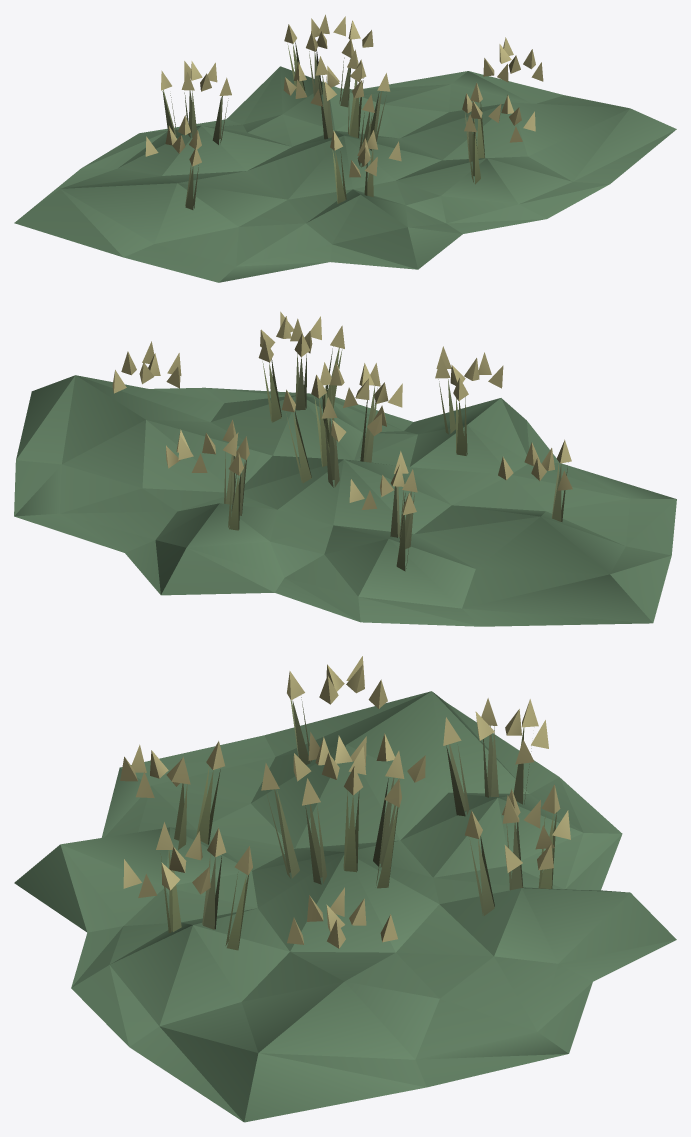
The model's file is moss.lod.glb.
3 views of the same model, one above another, from view 1: azimuth 30°, elevation 25°; view 2: azimuth 150°, elevation 25°; view 3: azimuth 270°, elevation 25° (orthographic). The views are drawn at different scales.
Parts seen in each view (by area): view 1: moss; view 2: moss; view 3: moss.
Boxes of the visible parts, x1,y1,x2,y2 form: moss: (14, 14, 676, 282); moss: (14, 311, 676, 626); moss: (14, 656, 676, 1122).
Size of the model in its own units: 2.05 by 0.3812 by 1.37.
